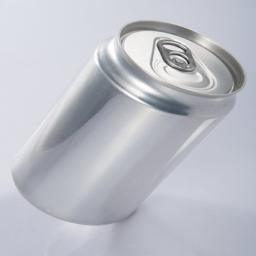Aluminum: (11, 20, 250, 227)
